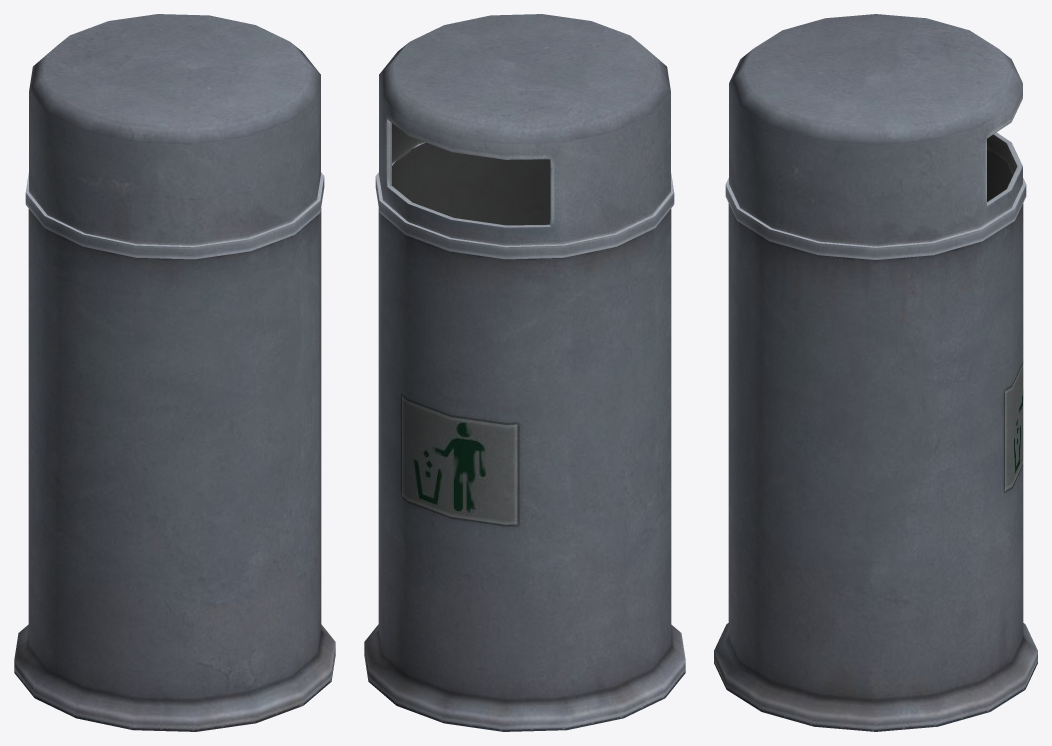
File: Trash_Bin_1.glb
The picture shows the model from 3 angles, left to right: view 1: azimuth 30°, elevation 25°; view 2: azimuth 150°, elevation 25°; view 3: azimuth 270°, elevation 25°; orthographic projection.
Parts seen in each view (by area): view 1: Trash_Bin_1__LOD3; view 2: Trash_Bin_1__LOD3; view 3: Trash_Bin_1__LOD3.
Part boxes in pixels (x1,y1,x2,y2): Trash_Bin_1__LOD3: [14, 14, 335, 731]; Trash_Bin_1__LOD3: [364, 14, 685, 731]; Trash_Bin_1__LOD3: [714, 14, 1037, 731].
Size of the model in its own units: 0.4792 by 0.9698 by 0.4792.
Materials: 1 (1 with a texture image).
